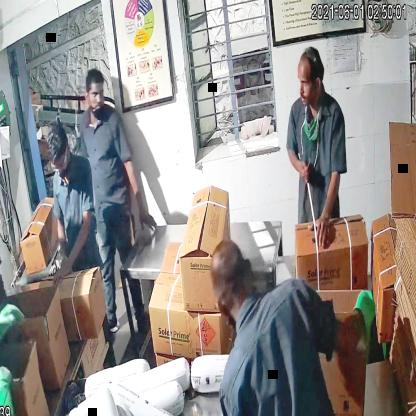no_goggles: (296, 70, 323, 99)
